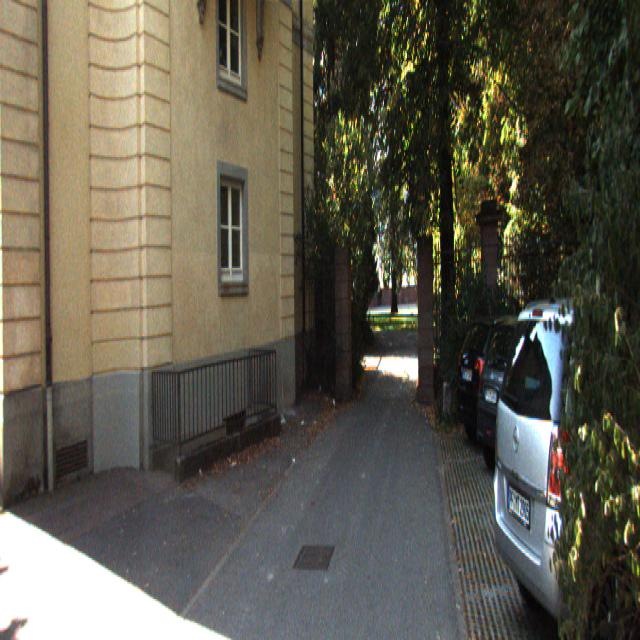Car: (492, 282, 640, 638), (473, 310, 633, 480), (454, 308, 604, 446)
